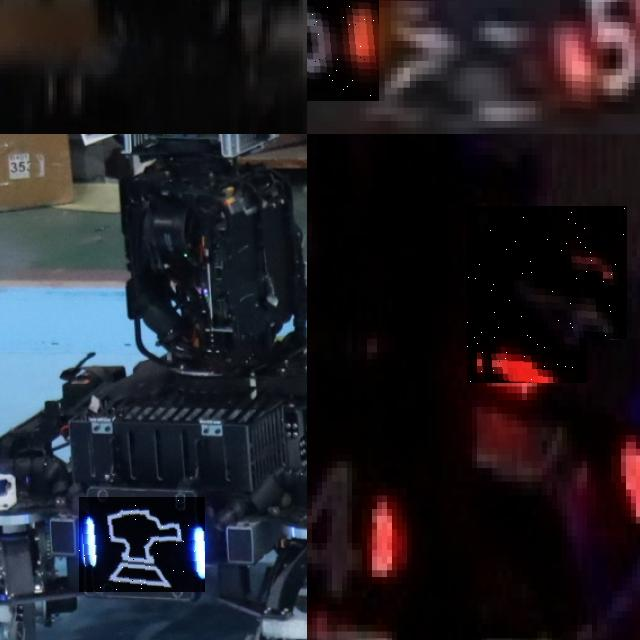Bs: (79, 497, 205, 592)
R4: (467, 206, 627, 383), (307, 451, 397, 601), (587, 338, 640, 529)
R5: (560, 0, 640, 114), (307, 0, 378, 101)
